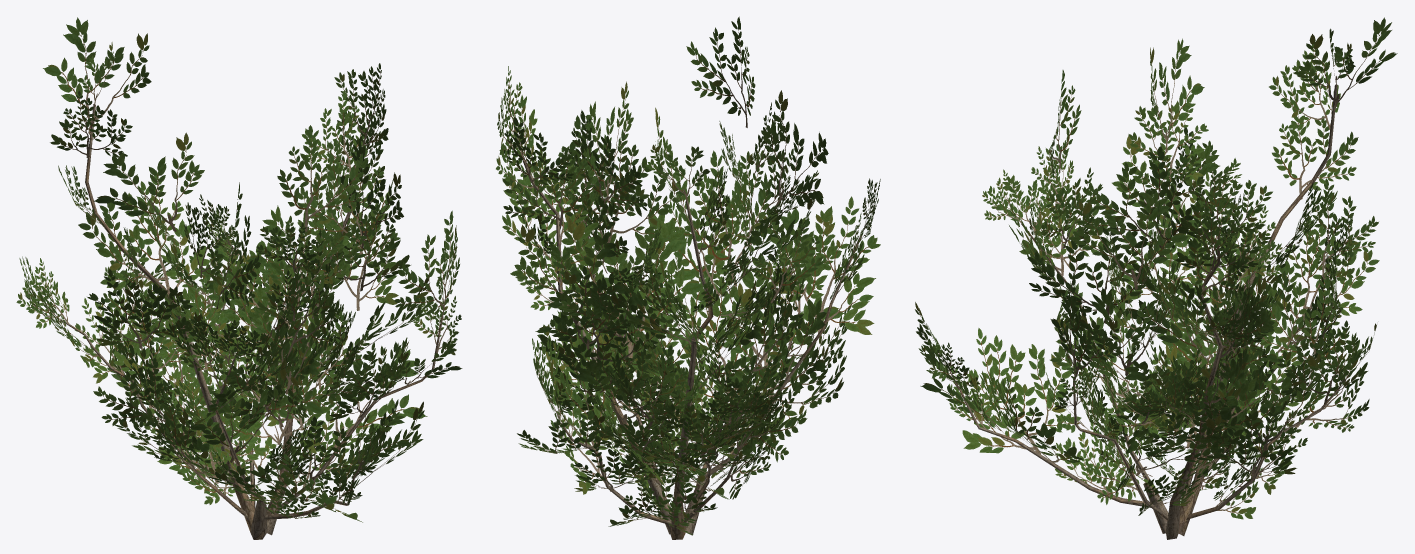
The model's file is bush2_l1.glb.
The picture shows the model from 3 angles, left to right: view 1: azimuth 30°, elevation 25°; view 2: azimuth 150°, elevation 25°; view 3: azimuth 270°, elevation 25°; orthographic projection. The views are drawn at different scales.
Parts seen in each view (by area): view 1: Bush_big_002_LOD1_Brunch_material_0, Bush_big_002_LOD1_Bark_material_0; view 2: Bush_big_002_LOD1_Brunch_material_0, Bush_big_002_LOD1_Bark_material_0; view 3: Bush_big_002_LOD1_Brunch_material_0, Bush_big_002_LOD1_Bark_material_0.
Part boxes in pixels (x1,y1,x2,y2): Bush_big_002_LOD1_Brunch_material_0: [16, 17, 462, 522]; Bush_big_002_LOD1_Bark_material_0: [60, 104, 443, 539]; Bush_big_002_LOD1_Brunch_material_0: [496, 16, 880, 534]; Bush_big_002_LOD1_Bark_material_0: [523, 160, 862, 539]; Bush_big_002_LOD1_Brunch_material_0: [915, 17, 1397, 519]; Bush_big_002_LOD1_Bark_material_0: [954, 84, 1338, 539].
Bounding box in the file's own units: 1.23 × 1.6 × 1.46.
Materials: 2 (2 with a texture image).
